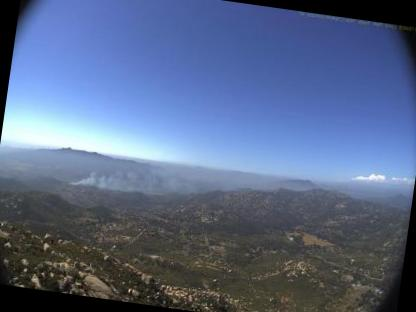Smoke: (68, 156, 188, 203)
